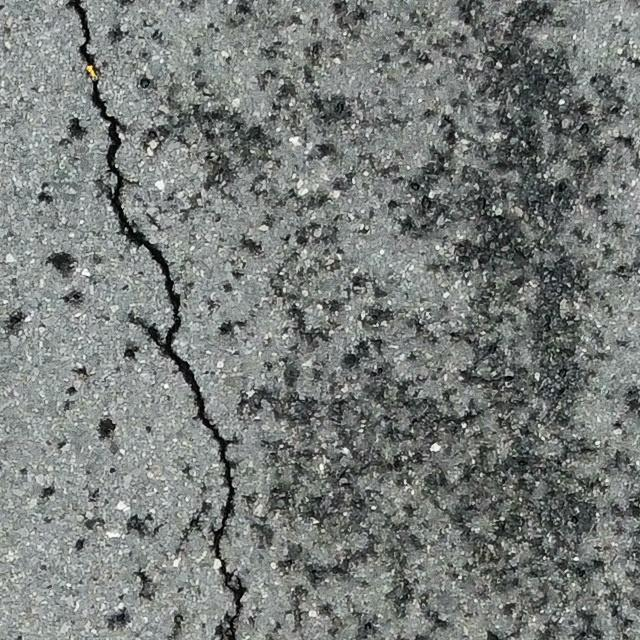LongitudinalCrack: (66, 1, 247, 640)
